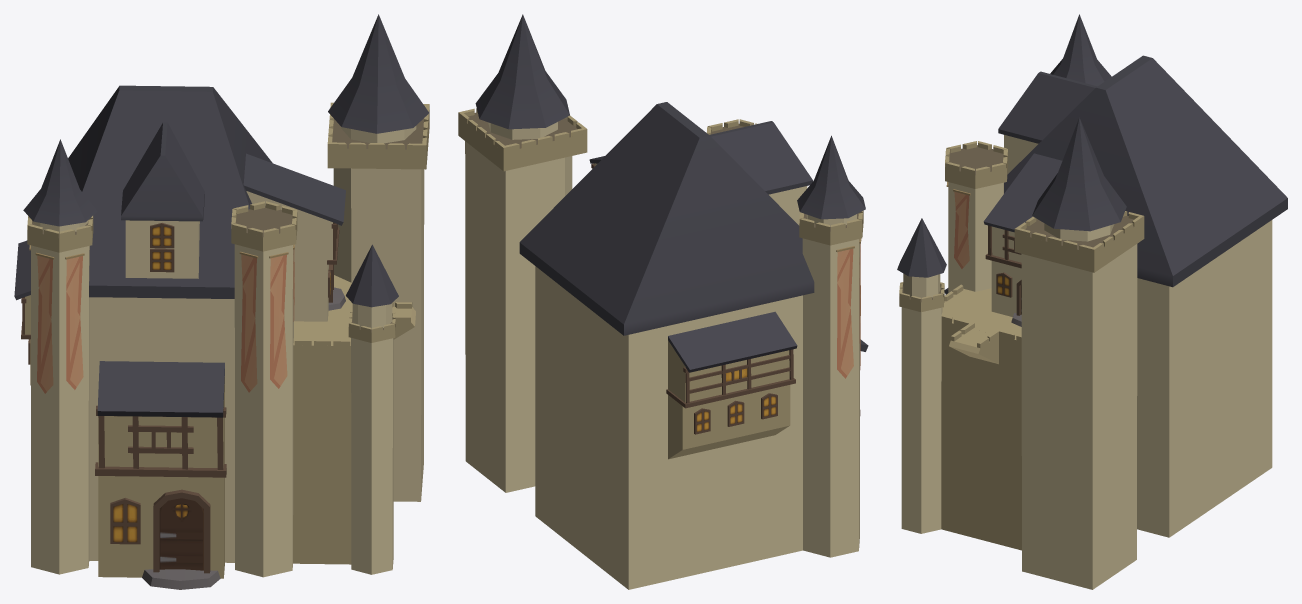
The model's file is castle_town__castle.glb.
3 views of the same model, side by side, from view 1: azimuth 30°, elevation 25°; view 2: azimuth 150°, elevation 25°; view 3: azimuth 270°, elevation 25° (orthographic). The views are drawn at different scales.
Parts seen in each view (by area): view 1: Object_56; view 2: Object_56; view 3: Object_56.
Boxes of the visible parts, left/top/right/bottom form: Object_56: left=14, top=14, right=429, bottom=589; Object_56: left=458, top=14, right=868, bottom=589; Object_56: left=897, top=14, right=1287, bottom=589.
Bounding box in the file's own units: 33.48 × 36.65 × 28.95.
Materials: 1 (1 with a texture image).
